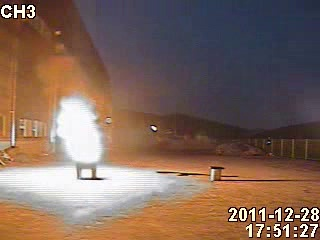fire: (57, 96, 102, 165)
